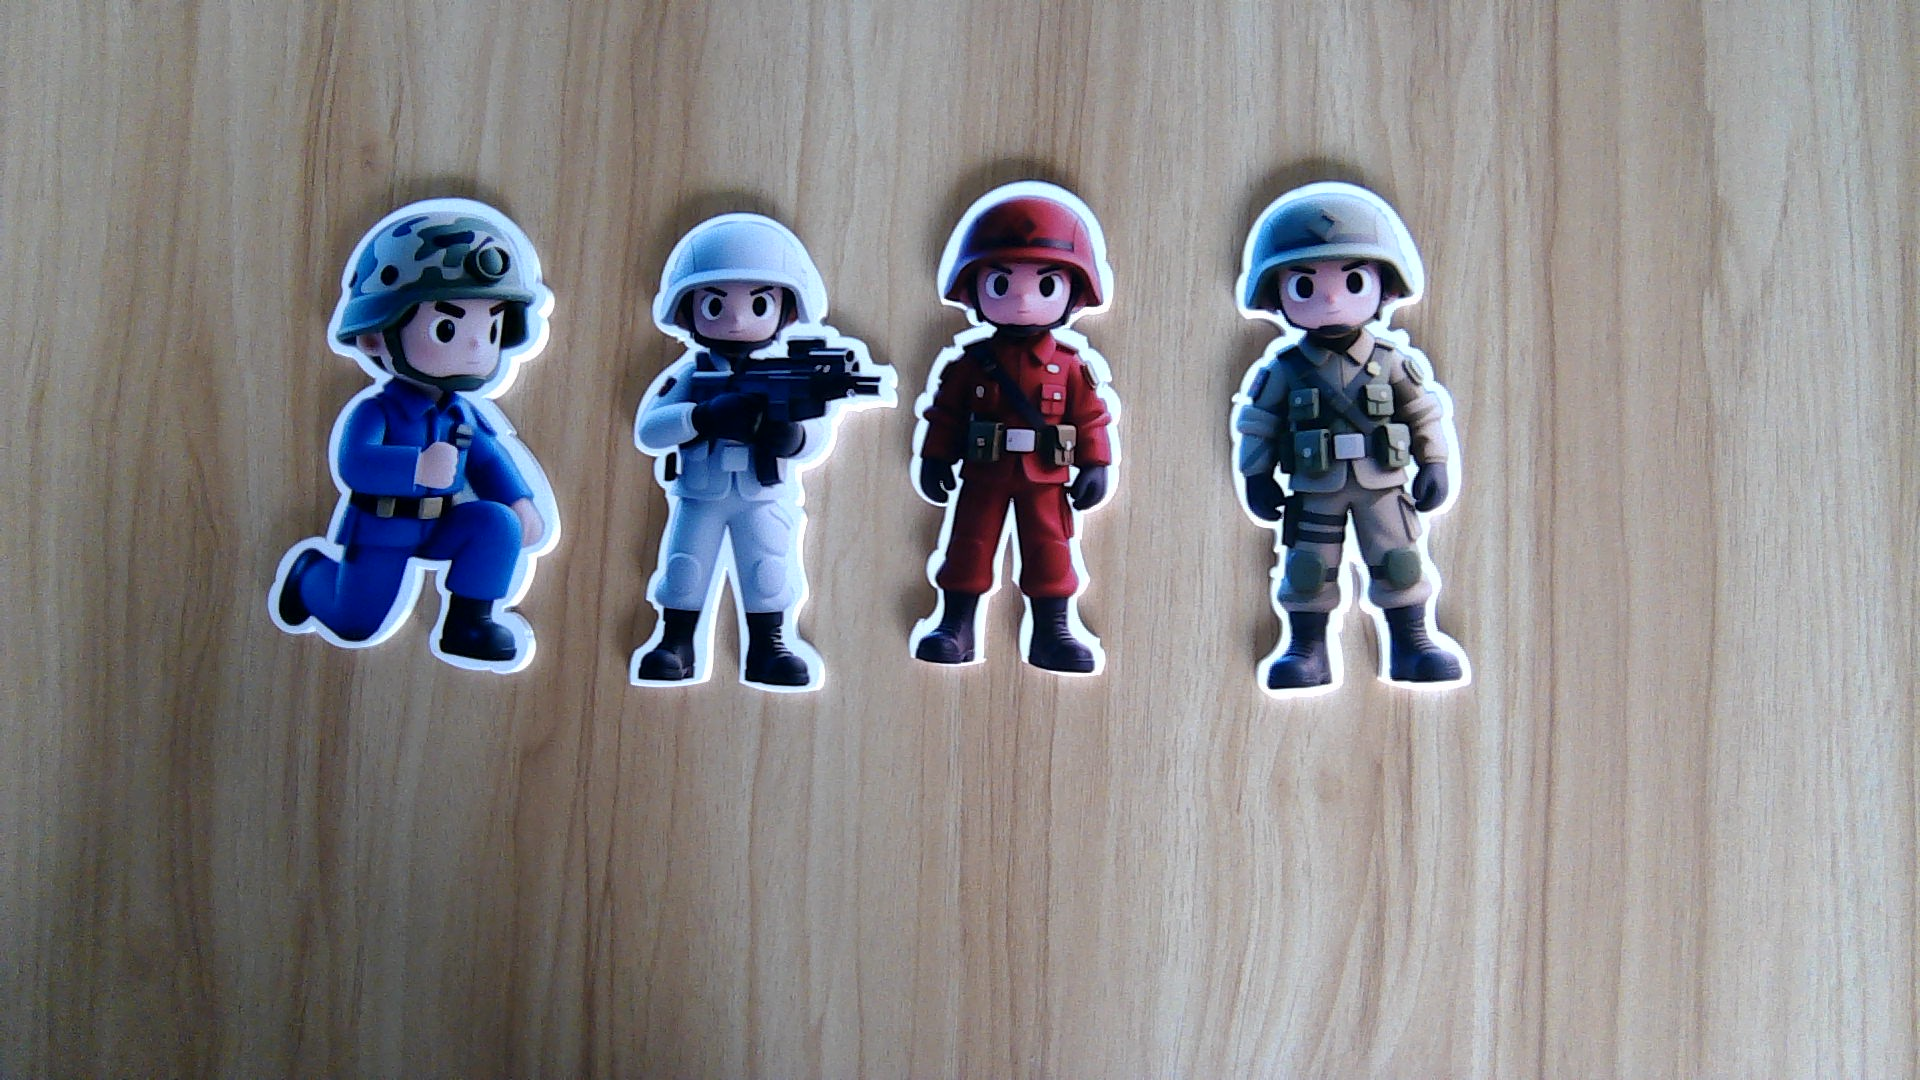人质: (620, 345, 893, 694)
友军: (1226, 334, 1484, 696)
敌人1: (905, 318, 1130, 687)
敌人2: (257, 386, 568, 680)
